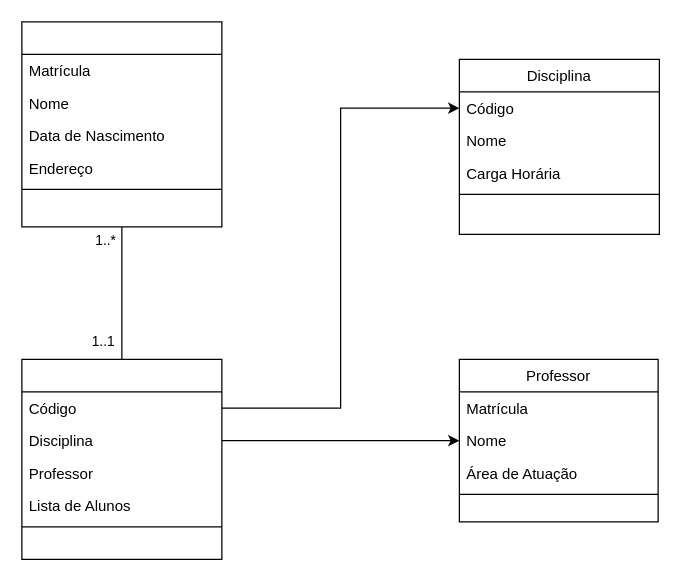
Some shapes in this 681 by 581 pixel diagram are drawn without their labels. Each missing label, with the box of its shape:
Aluno: (21, 21, 222, 227)
Turma: (21, 358, 222, 559)
